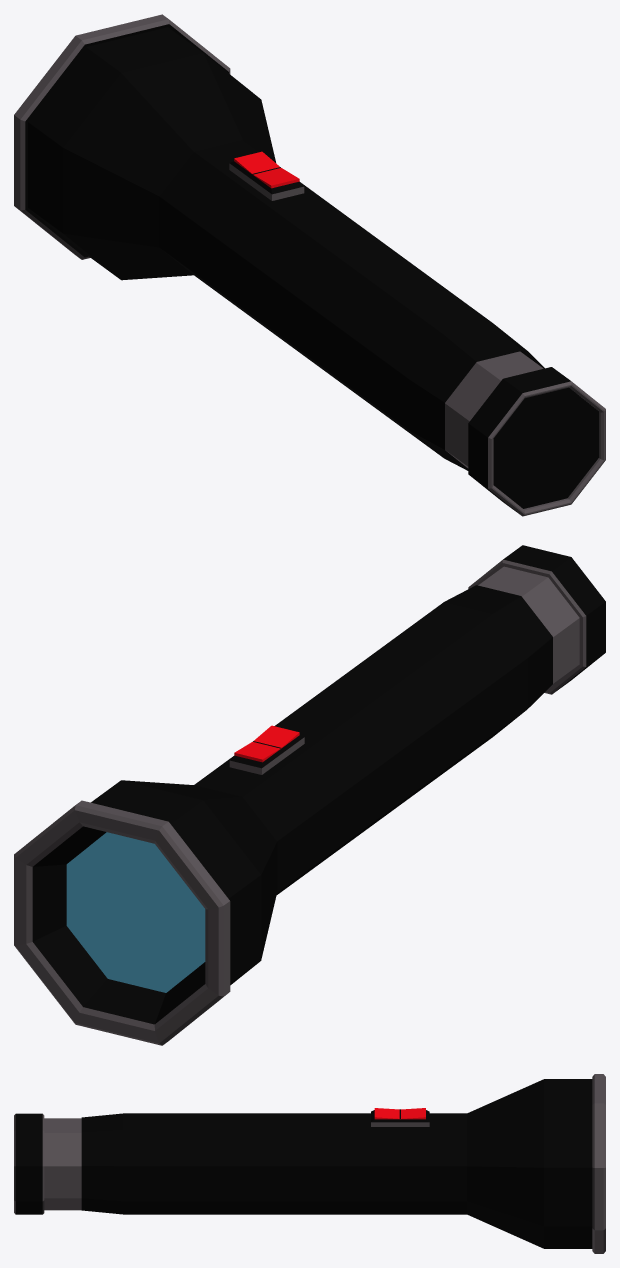
Rendered from lanterna 1.fbx.
The picture shows the model from 3 angles, top to bottom: view 1: azimuth 30°, elevation 25°; view 2: azimuth 150°, elevation 25°; view 3: azimuth 270°, elevation 25°; orthographic projection. The views are drawn at different scales.
Parts seen in each view (by area): view 1: lanterna, bateria, botao; view 2: lanterna, bateria, botao; view 3: lanterna, bateria, botao.
Part boxes in pixels (box(x1,y1,x2,y2)): lanterna: box(14, 14, 544, 470); bateria: box(445, 351, 605, 516); botao: box(229, 151, 304, 200); lanterna: box(14, 585, 552, 1045); bateria: box(468, 545, 605, 694); botao: box(229, 725, 304, 774); lanterna: box(81, 1074, 605, 1253); bateria: box(14, 1113, 81, 1214); botao: box(371, 1108, 429, 1126).
Size of the model in its own units: 4.96 by 4.96 by 17.67.
